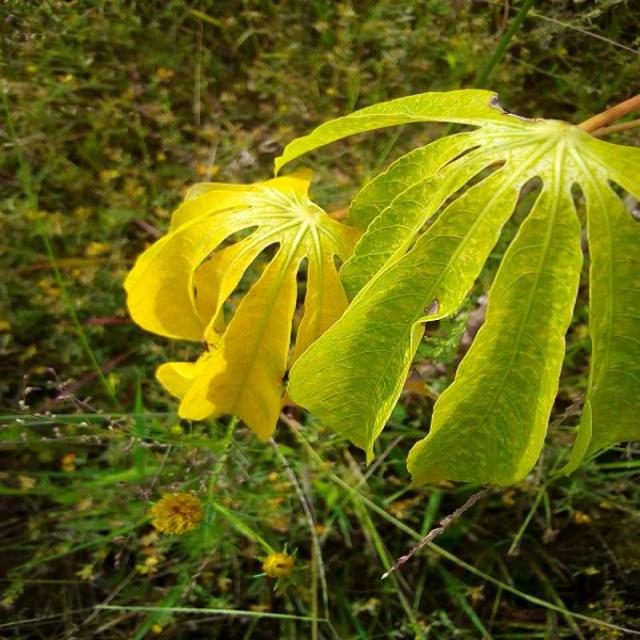cassava leaf: (282, 97, 640, 490), (124, 163, 363, 443)
